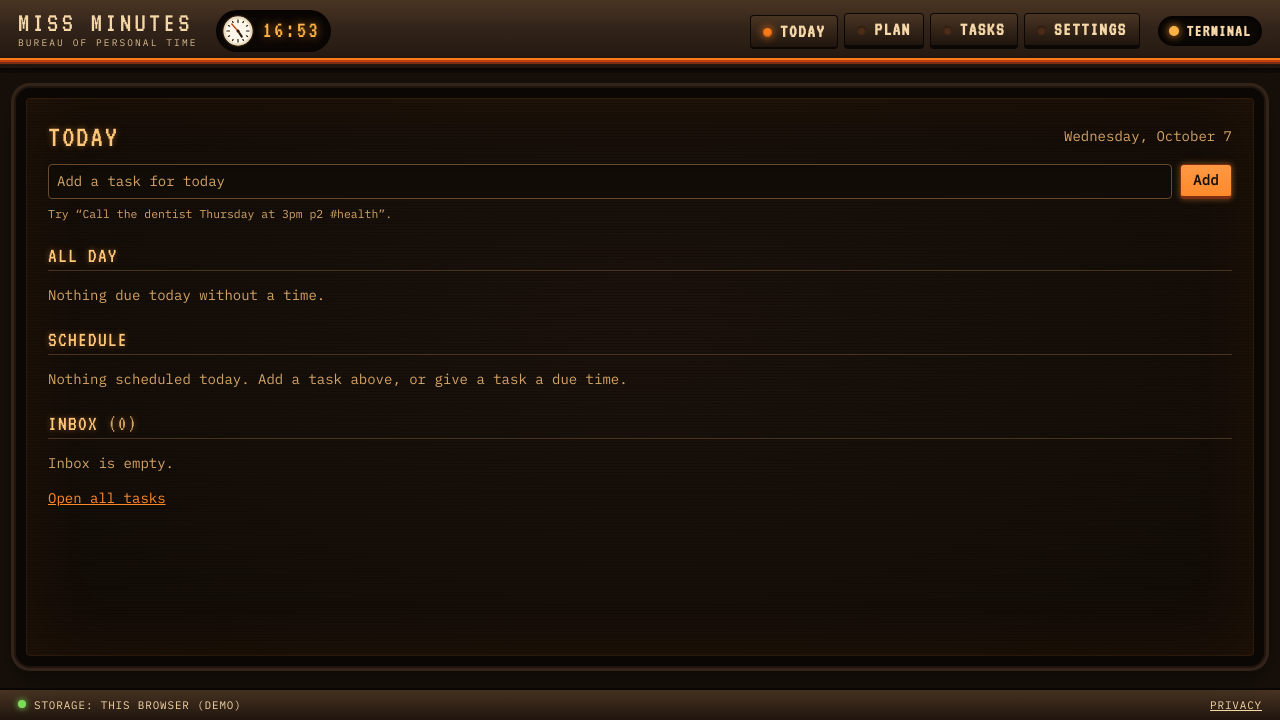
Test: App shell › starts on Today and switches views from the main navigation
Expected: the heading "Today" is shown, [48, 120, 119, 154]
What coordinates should you click on to do the following:
click the button "Tasks"
I would click on:
 (974, 31)
Its box is [930, 12, 1018, 49].
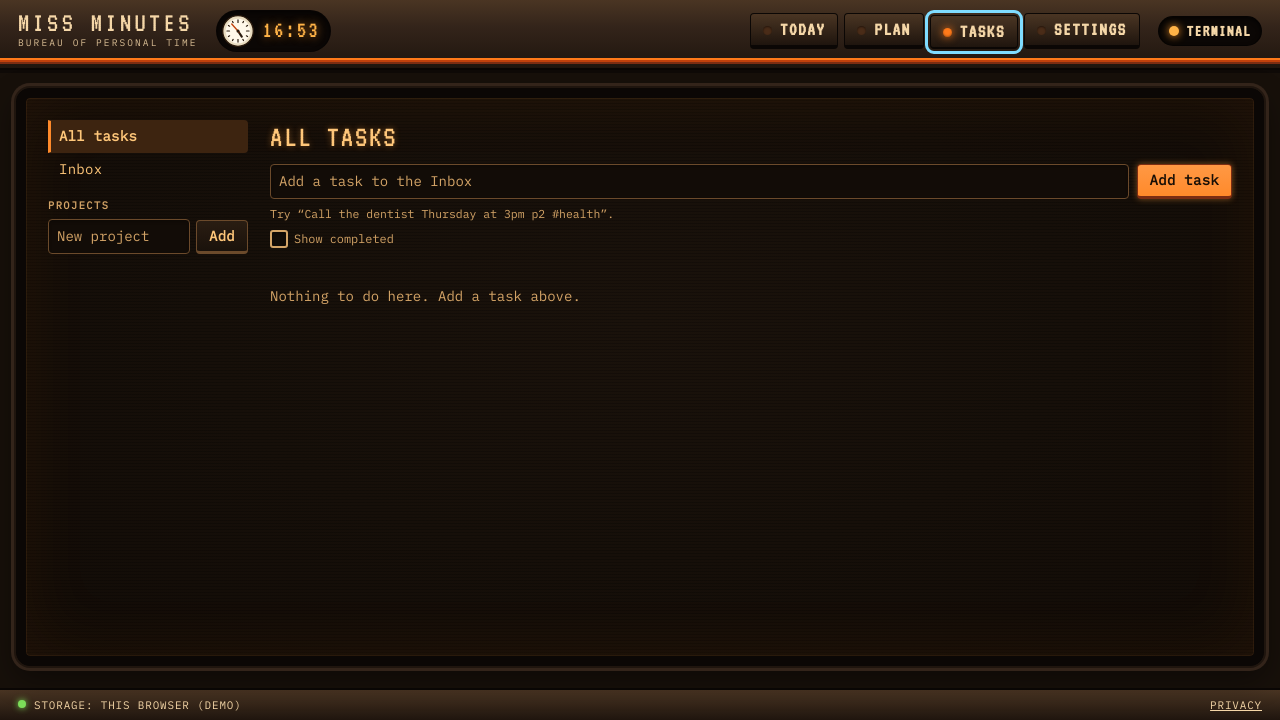
Expected: the heading "All tasks" is shown, [270, 120, 398, 154]
